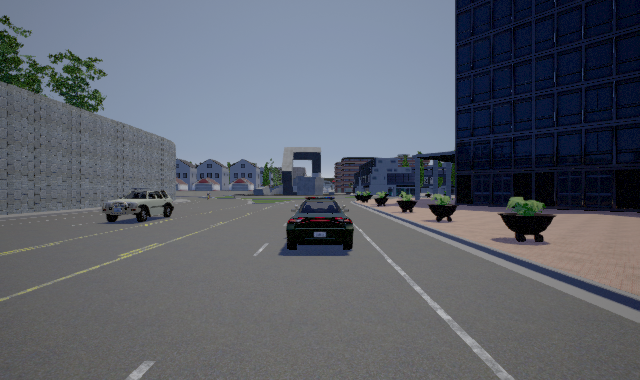vehicle: (286, 197, 354, 250), (102, 188, 174, 222)
